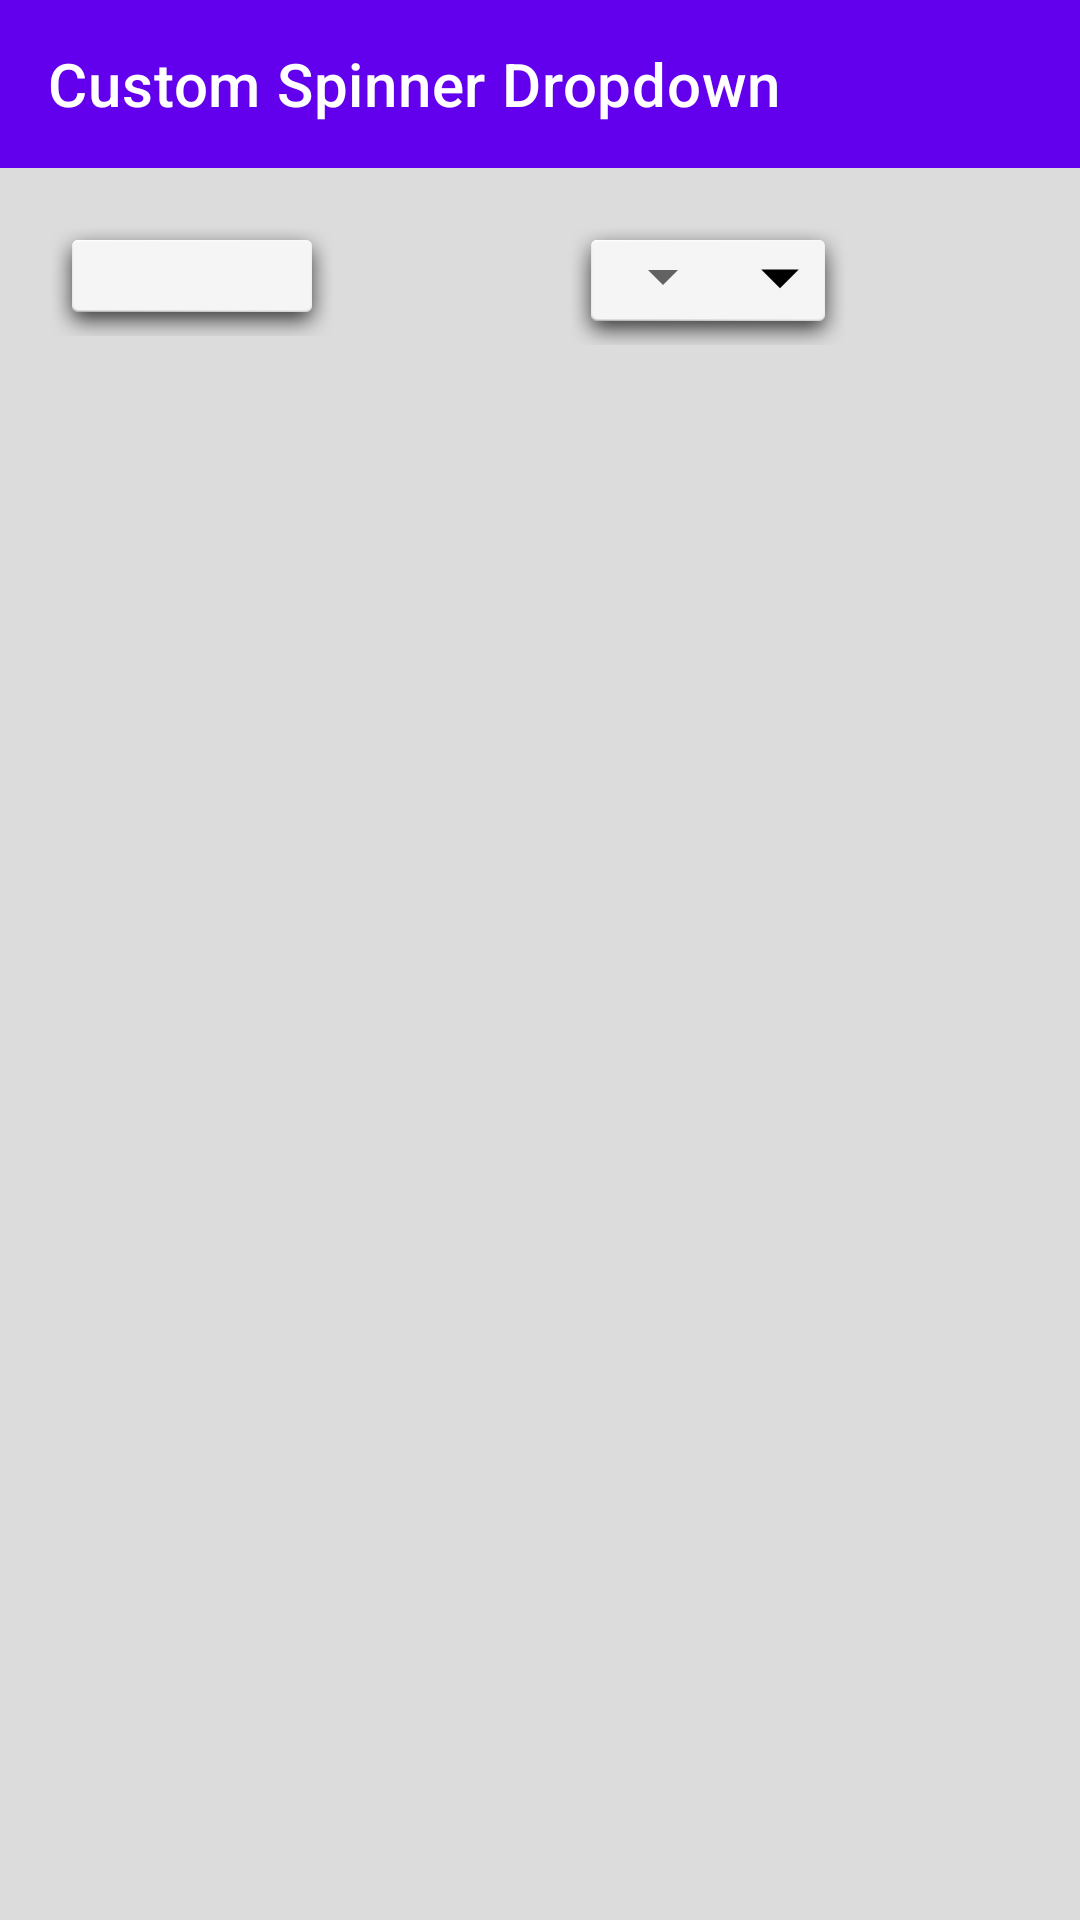

Where to tap for icons on this 1080px×1920px app screen, as point (x, y):
drop down arrow: point (780, 277)
